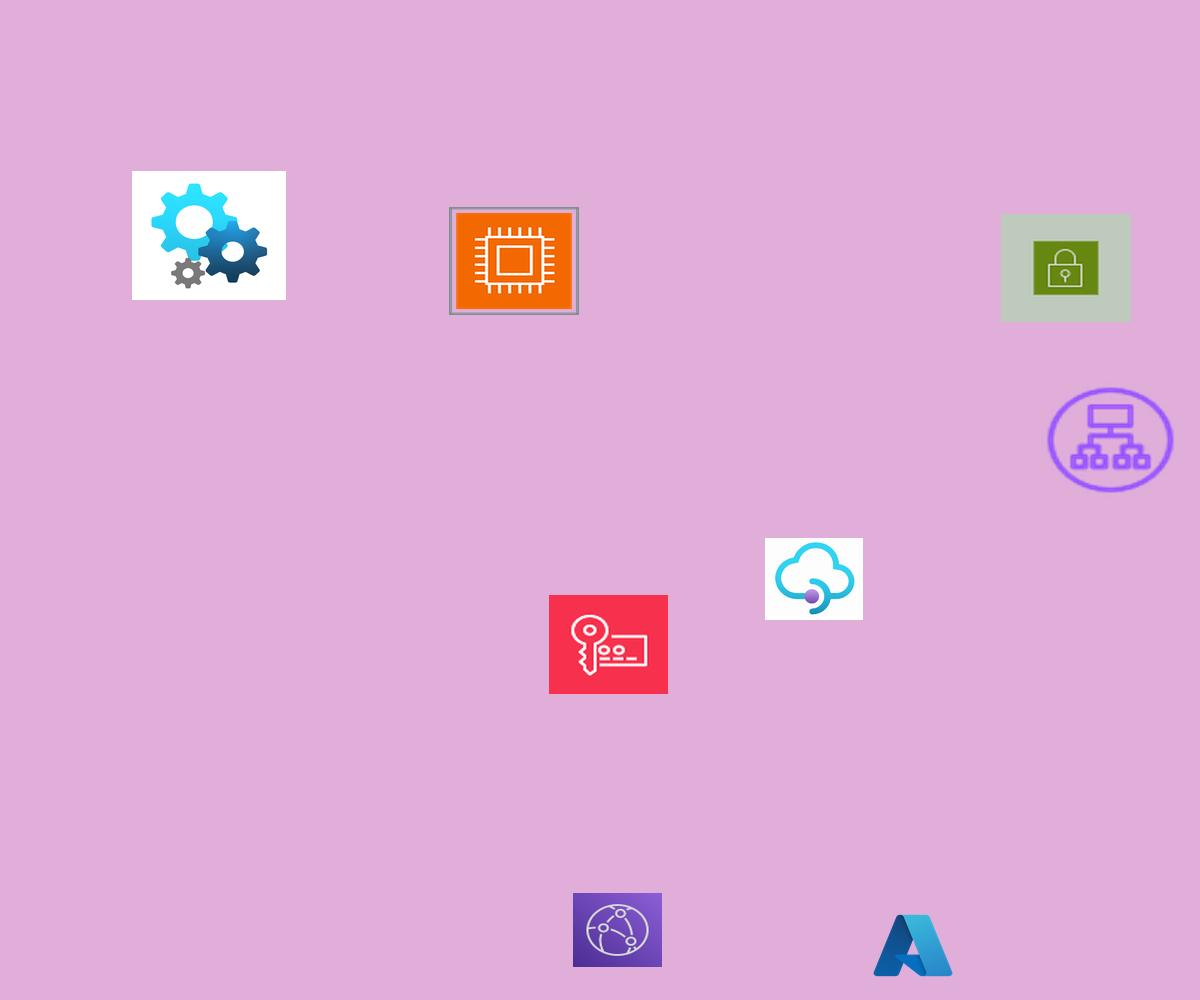AWS-Category_Compute: (449, 207, 579, 315)
AWS-CloudFront: (573, 893, 662, 967)
AWS-Key-Management-Service: (549, 595, 668, 694)
AWS-Public-subnet: (1001, 214, 1131, 322)
AWS-Res_Elastic-Load-Balancing_Application-Load-Balancer: (1042, 383, 1179, 497)
Azure_api: (132, 171, 286, 300)
Azure_api_gateway: (765, 538, 863, 620)
Azure_services: (870, 910, 956, 981)
